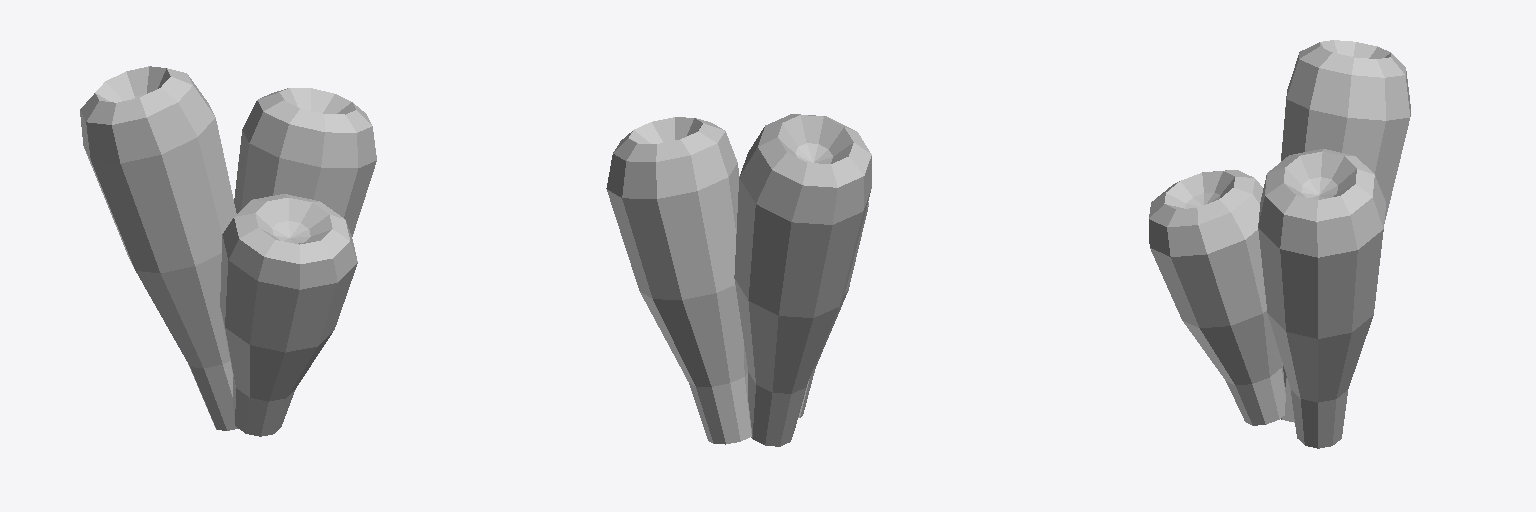
The model's file is Bubble shooting corral.obj.
3 views of the same model, side by side, from view 1: azimuth 30°, elevation 25°; view 2: azimuth 150°, elevation 25°; view 3: azimuth 270°, elevation 25° (orthographic).
Visible parts, largest first — view 1: pCylinder6; view 2: pCylinder6; view 3: pCylinder6.
Part boxes in pixels (x1,y1,x2,y2): pCylinder6: (80, 66, 376, 436); pCylinder6: (606, 114, 871, 446); pCylinder6: (1149, 40, 1410, 448).
Bounding box in the file's own units: 3.8 × 4.77 × 3.24.